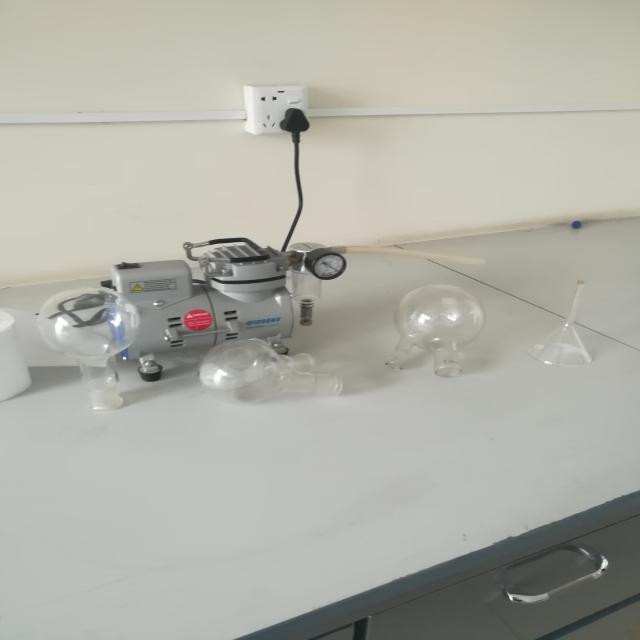Funnel: (516, 263, 606, 381)
Round_Bottom_Flask_Borosilicate_Glass_1_Neck: (32, 268, 154, 425)
Round_Bottom_Flask_Borosilicate_Glass_2_Neck: (371, 263, 494, 395)
Round_Bottom_Flask_Borosilicate_Glass_3_Neck: (179, 329, 361, 429)
